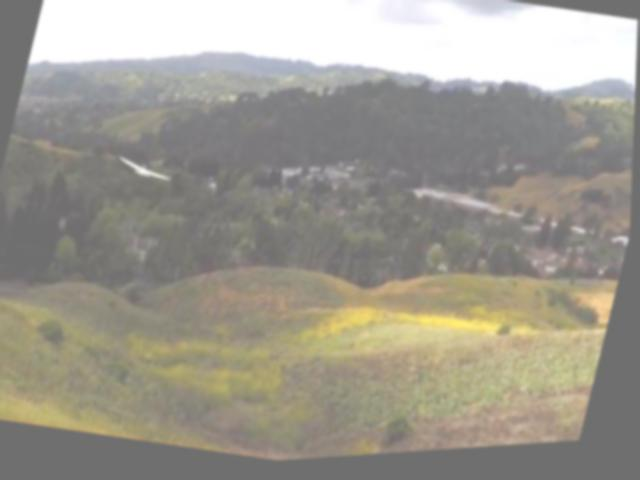iha: (116, 150, 179, 191)
